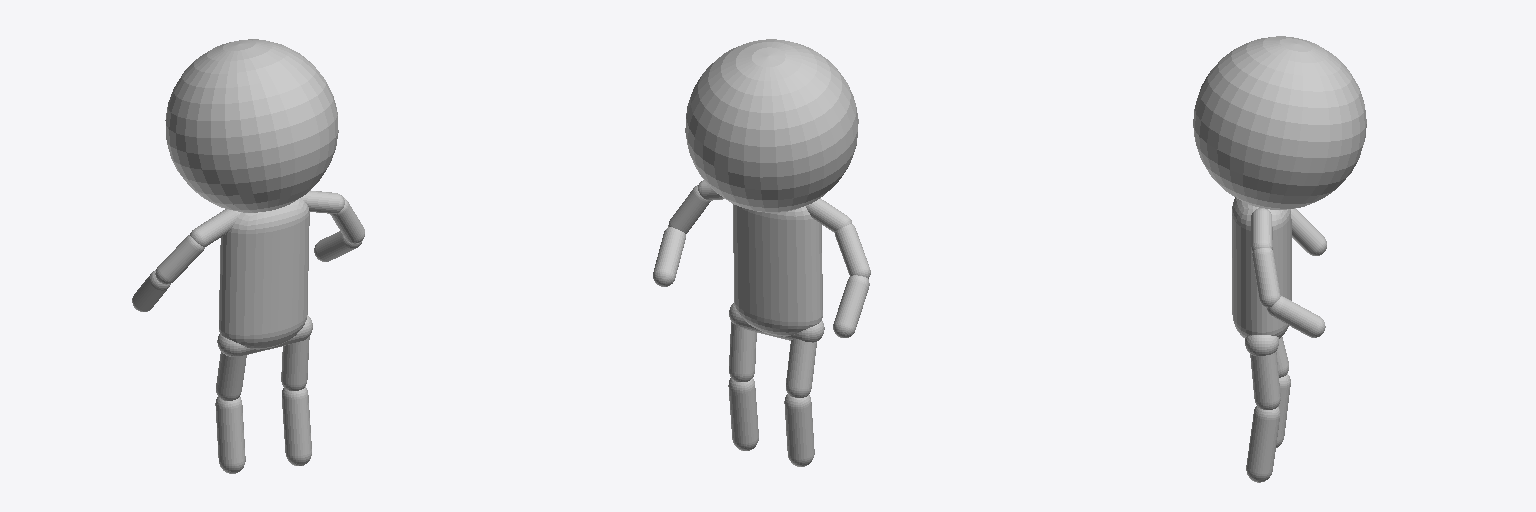
The model's file is Stickman_000055.obj.
The picture shows the model from 3 angles: view 1: azimuth 30°, elevation 25°; view 2: azimuth 150°, elevation 25°; view 3: azimuth 270°, elevation 25°; orthographic projection.
Visible parts, largest first — view 1: Head_Sphere.001, Body_Roundcube.002, LowerLegLeft_Roundcube.013, LowerLegRight_Roundcube.011, UpperLegLeft_Roundcube.012, UpperArmRight_Roundcube.015, UpperLegRight_Roundcube.010, ShoulderRight_Roundcube.014, Hip_Roundcube.005, LowerArmRight_Roundcube.016, LowerArmLeft_Roundcube.019, UpperArmLeft_Roundcube.018 (+1 smaller); view 2: Head_Sphere.001, Body_Roundcube.002, LowerLegRight_Roundcube.011, LowerLegLeft_Roundcube.013, UpperLegRight_Roundcube.010, LowerArmRight_Roundcube.016, UpperLegLeft_Roundcube.012, LowerArmLeft_Roundcube.019, UpperArmRight_Roundcube.015, UpperArmLeft_Roundcube.018, ShoulderRight_Roundcube.014, Hip_Roundcube.005; view 3: Head_Sphere.001, Body_Roundcube.002, LowerLegLeft_Roundcube.013, UpperLegLeft_Roundcube.012, LowerArmLeft_Roundcube.019, UpperArmLeft_Roundcube.018, LowerArmRight_Roundcube.016, ShoulderLeft_Roundcube.017, Hip_Roundcube.005, LowerLegRight_Roundcube.011.
Part boxes in pixels (x1,y1,x2,y2): Head_Sphere.001: (165,39,338,212); Body_Roundcube.002: (219,198,309,349); LowerLegLeft_Roundcube.013: (282,386,311,465); LowerLegRight_Roundcube.011: (215,397,245,473); UpperLegLeft_Roundcube.012: (281,336,309,390); UpperArmRight_Roundcube.015: (155,235,204,284); UpperLegRight_Roundcube.010: (216,352,246,400); ShoulderRight_Roundcube.014: (190,209,240,246); Hip_Roundcube.005: (217,315,312,356); LowerArmRight_Roundcube.016: (132,270,170,311); LowerArmLeft_Roundcube.019: (314,231,362,261); UpperArmLeft_Roundcube.018: (330,197,364,243); Head_Sphere.001: (685,39,858,212); Body_Roundcube.002: (733,204,822,336); LowerLegRight_Roundcube.011: (784,394,814,466); LowerLegLeft_Roundcube.013: (728,378,758,450); UpperLegRight_Roundcube.010: (786,339,816,397); LowerArmRight_Roundcube.016: (833,275,869,337); UpperLegLeft_Roundcube.012: (729,322,756,381); LowerArmLeft_Roundcube.019: (653,227,685,286); UpperArmRight_Roundcube.015: (835,224,870,278); UpperArmLeft_Roundcube.018: (668,185,710,233); ShoulderRight_Roundcube.014: (806,198,851,232); Hip_Roundcube.005: (729,302,824,342); Head_Sphere.001: (1193,36,1366,209); Body_Roundcube.002: (1232,197,1291,338); LowerLegLeft_Roundcube.013: (1246,406,1280,482); UpperLegLeft_Roundcube.012: (1250,352,1280,409); LowerArmLeft_Roundcube.019: (1267,296,1325,337); UpperArmLeft_Roundcube.018: (1252,248,1280,307); LowerArmRight_Roundcube.016: (1291,208,1326,255); ShoulderLeft_Roundcube.017: (1251,208,1272,252); Hip_Roundcube.005: (1245,335,1278,355); LowerLegRight_Roundcube.011: (1276,373,1290,447).
Size of the model in its own units: 6.35 by 12.21 by 4.59.